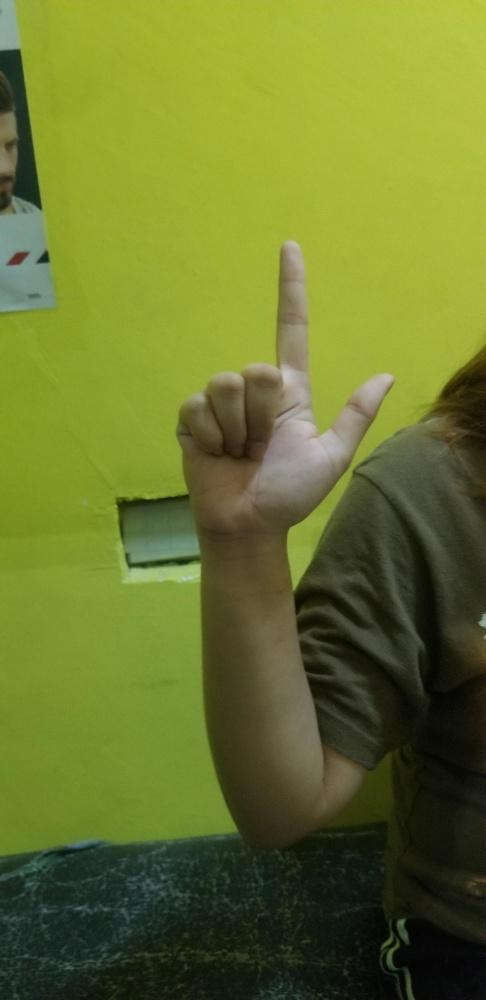l: (176, 237, 395, 530)
